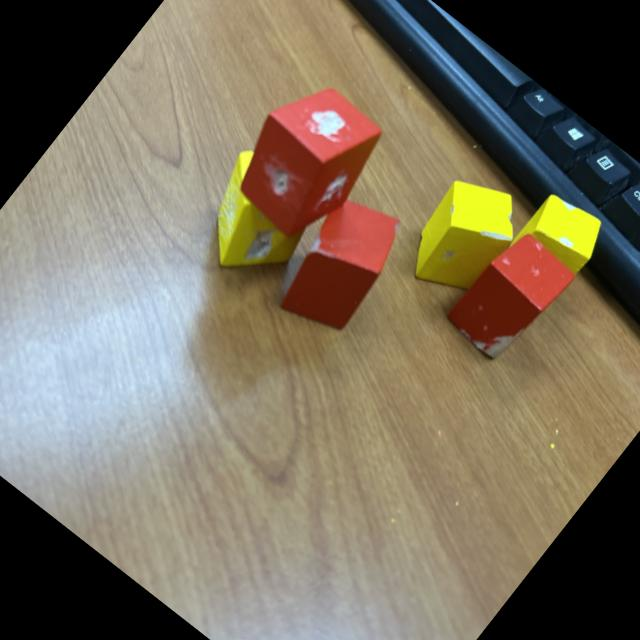broken: (215, 66, 397, 253), (264, 183, 418, 347), (176, 142, 332, 299), (390, 162, 534, 313), (440, 224, 580, 372), (510, 183, 614, 288)
